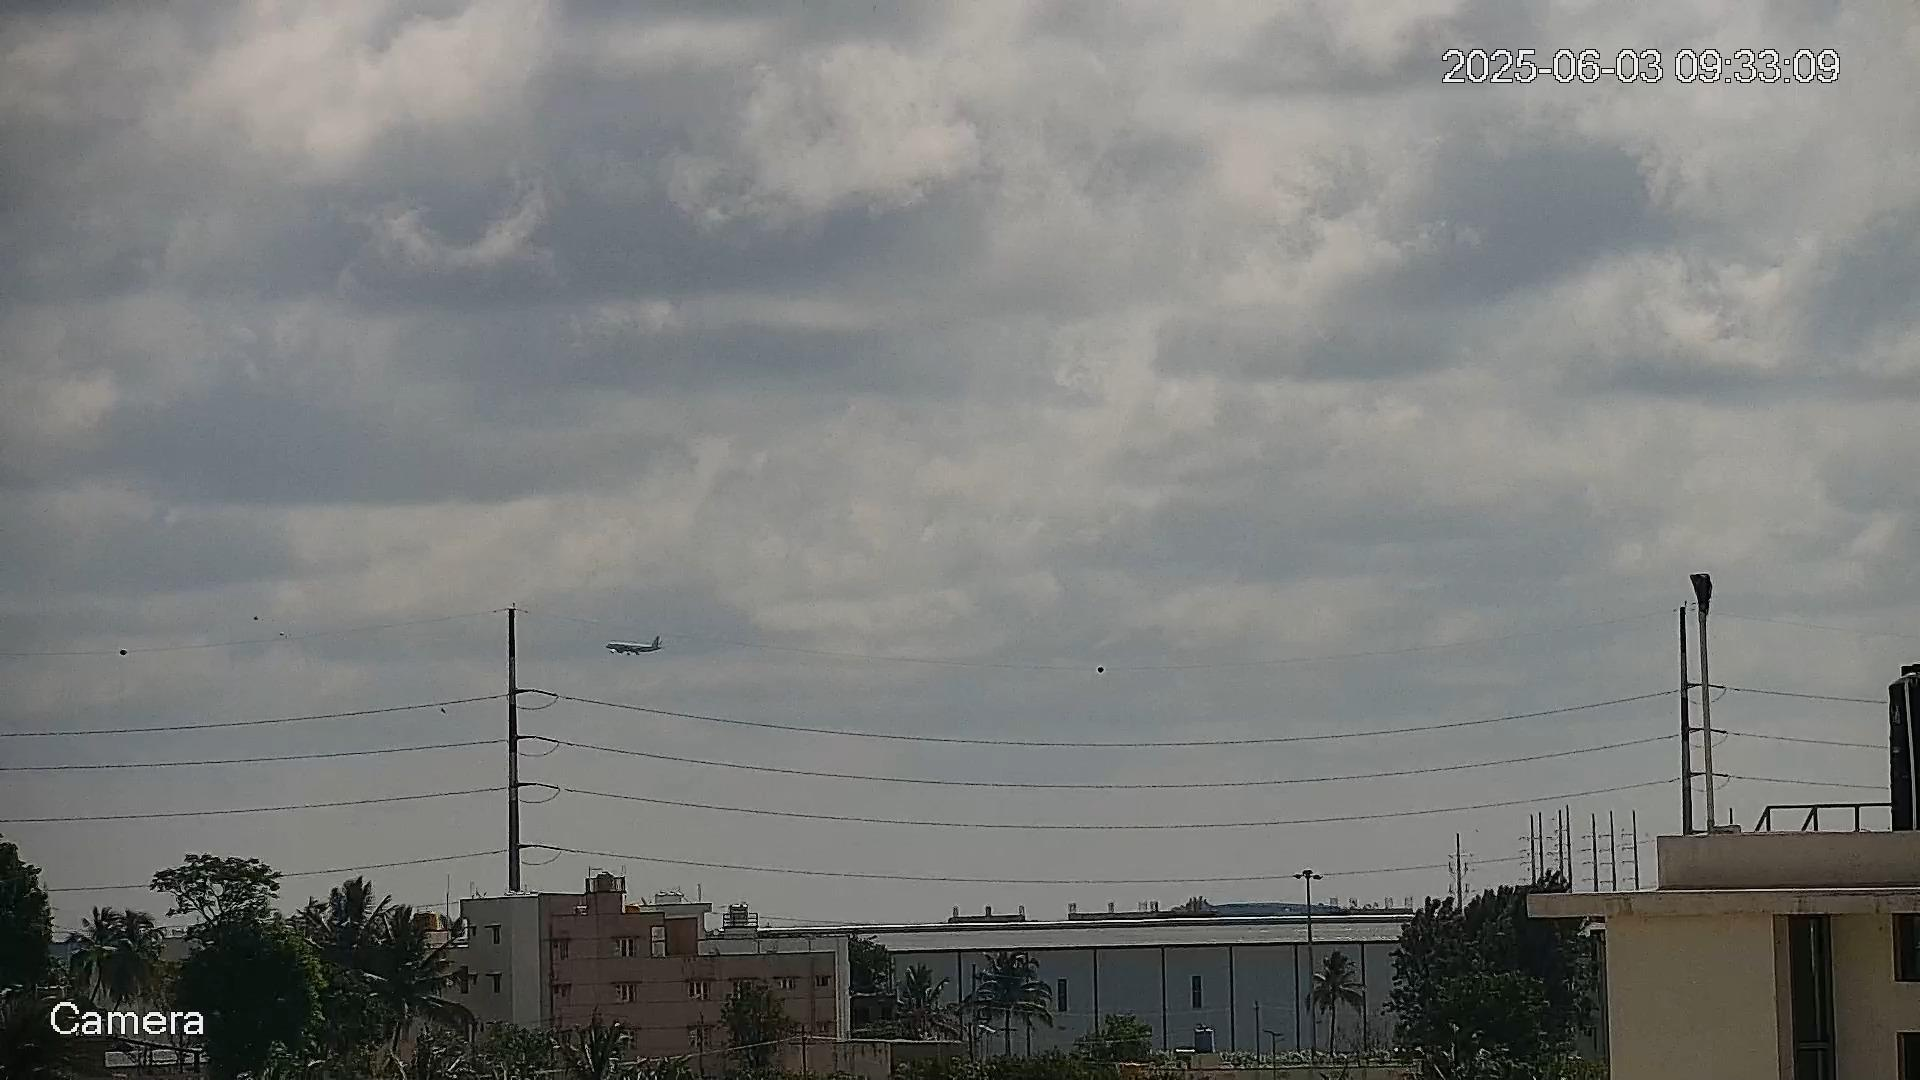Aircraft: (605, 626, 671, 655)
